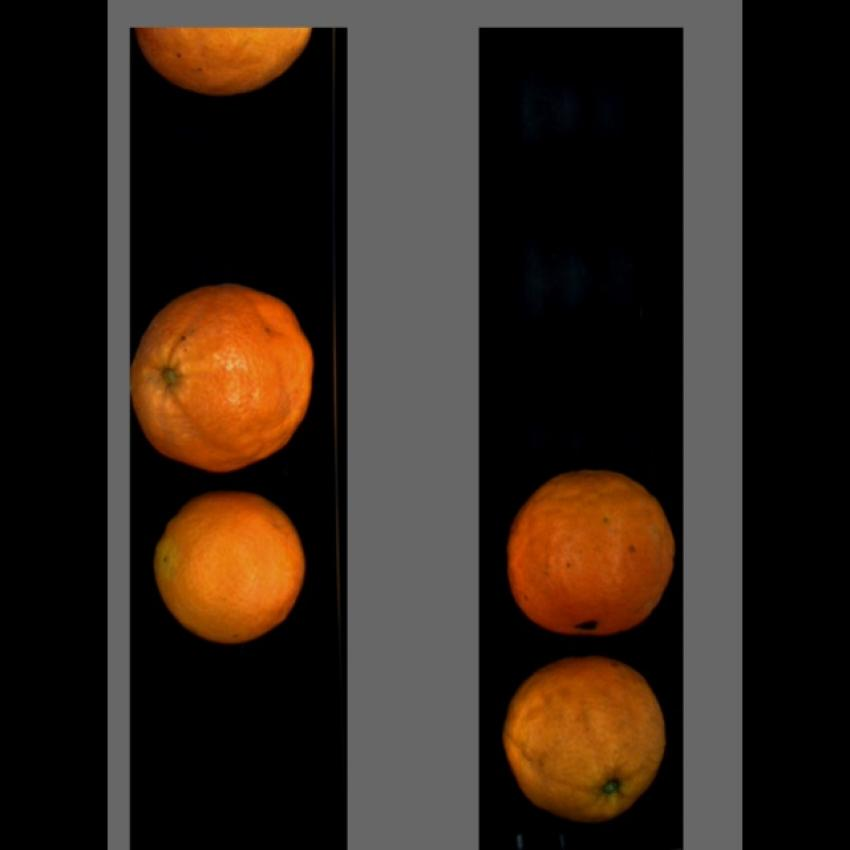Buen estado: (148, 495, 314, 651)
Mal estado: (127, 278, 319, 479), (495, 464, 682, 646), (498, 658, 678, 831), (129, 28, 332, 100)
